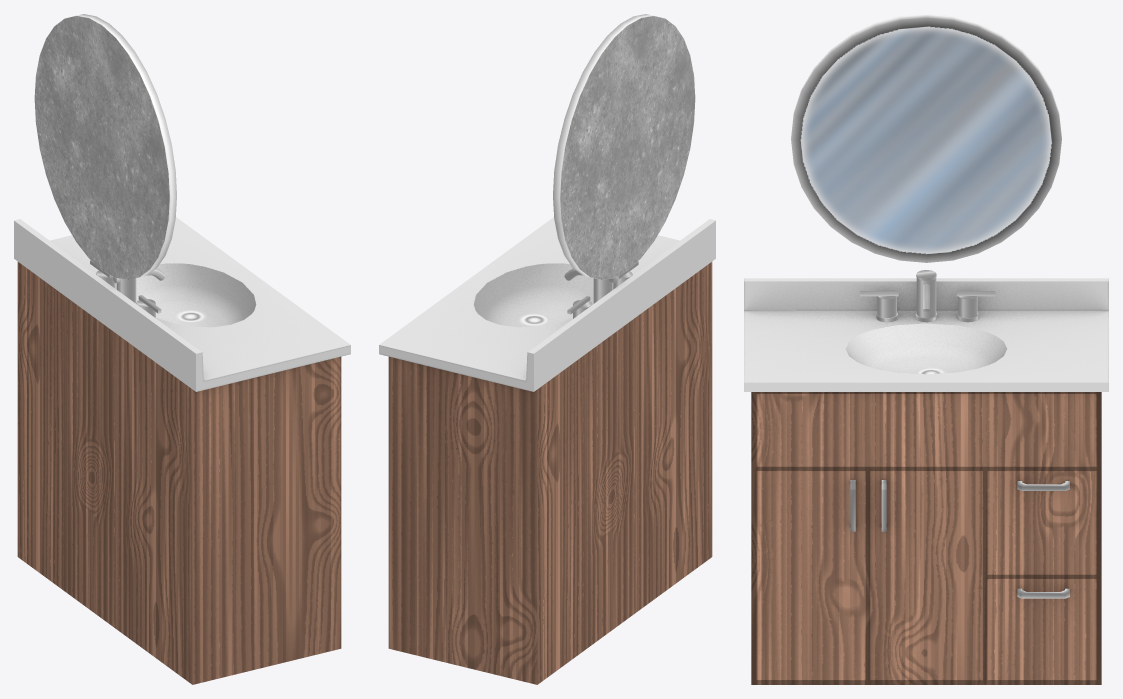
The model's file is basin.glb.
The picture shows the model from 3 angles, left to right: view 1: azimuth 30°, elevation 25°; view 2: azimuth 150°, elevation 25°; view 3: azimuth 270°, elevation 25°; orthographic projection.
Parts seen in each view (by area): view 1: Object_66; view 2: Object_66; view 3: Object_66.
Boxes of the visible parts, x1=… form: Object_66: x1=14, y1=14, x2=350, y2=684; Object_66: x1=379, y1=14, x2=715, y2=684; Object_66: x1=744, y1=14, x2=1108, y2=684.
Bounding box in the file's own units: 0.5278 × 1.85 × 1.02.
1 material, 1 textured.
